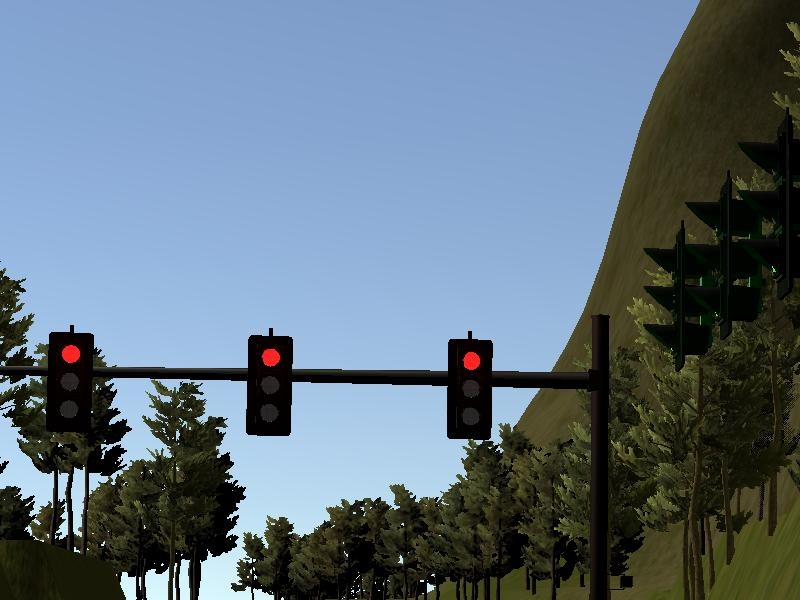red: (446, 333, 502, 452), (245, 333, 296, 442), (46, 328, 95, 436)
